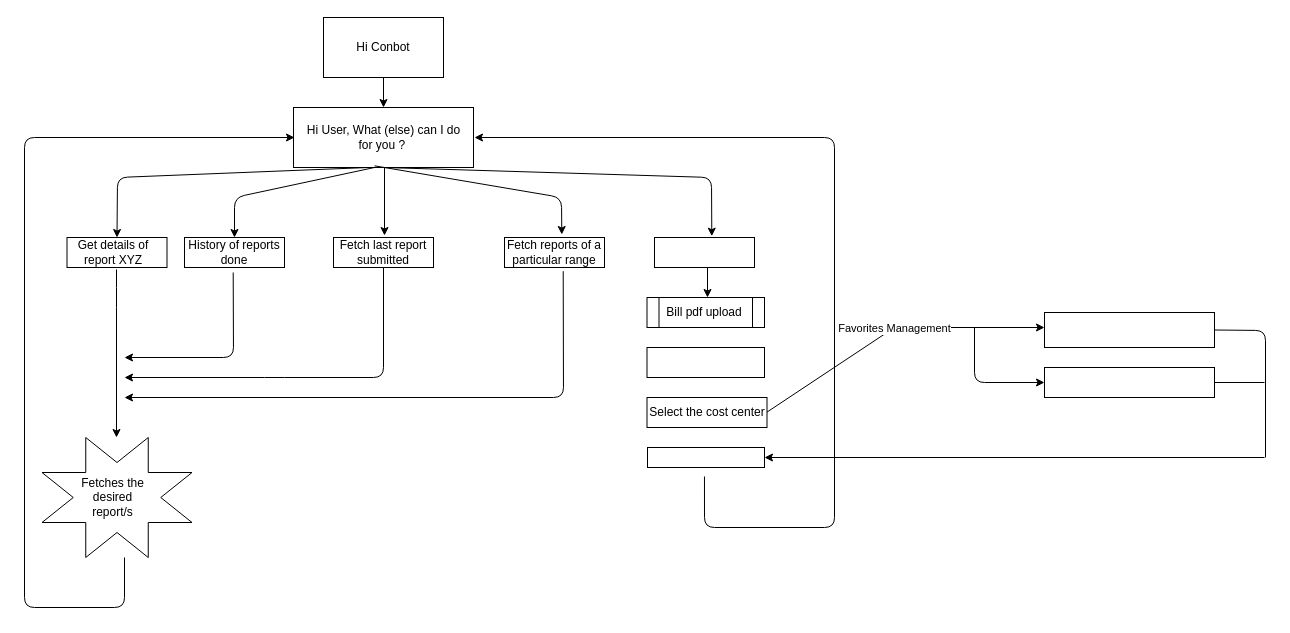
This 1290x633 diagram has some shape labels left out. The shapes that lost their labels are listed below. From the top down, each one's centre as x and y in pixels, then its label:
At (x=704, y=252): "Create a new report".
At (x=1129, y=330): "Select/Create a group/ team members".
At (x=705, y=362): "Review the details fetched from file".
At (x=1129, y=382): "Enter the members [ option to add it in fav list]".
At (x=705, y=457): "SUBMIT".
